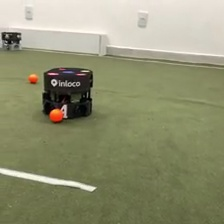ball: (48, 106, 65, 125), (27, 72, 39, 85)
goal: (1, 24, 108, 57)
robot: (41, 64, 95, 120), (1, 29, 23, 52)
